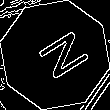N_SW: (23, 25, 87, 85)
